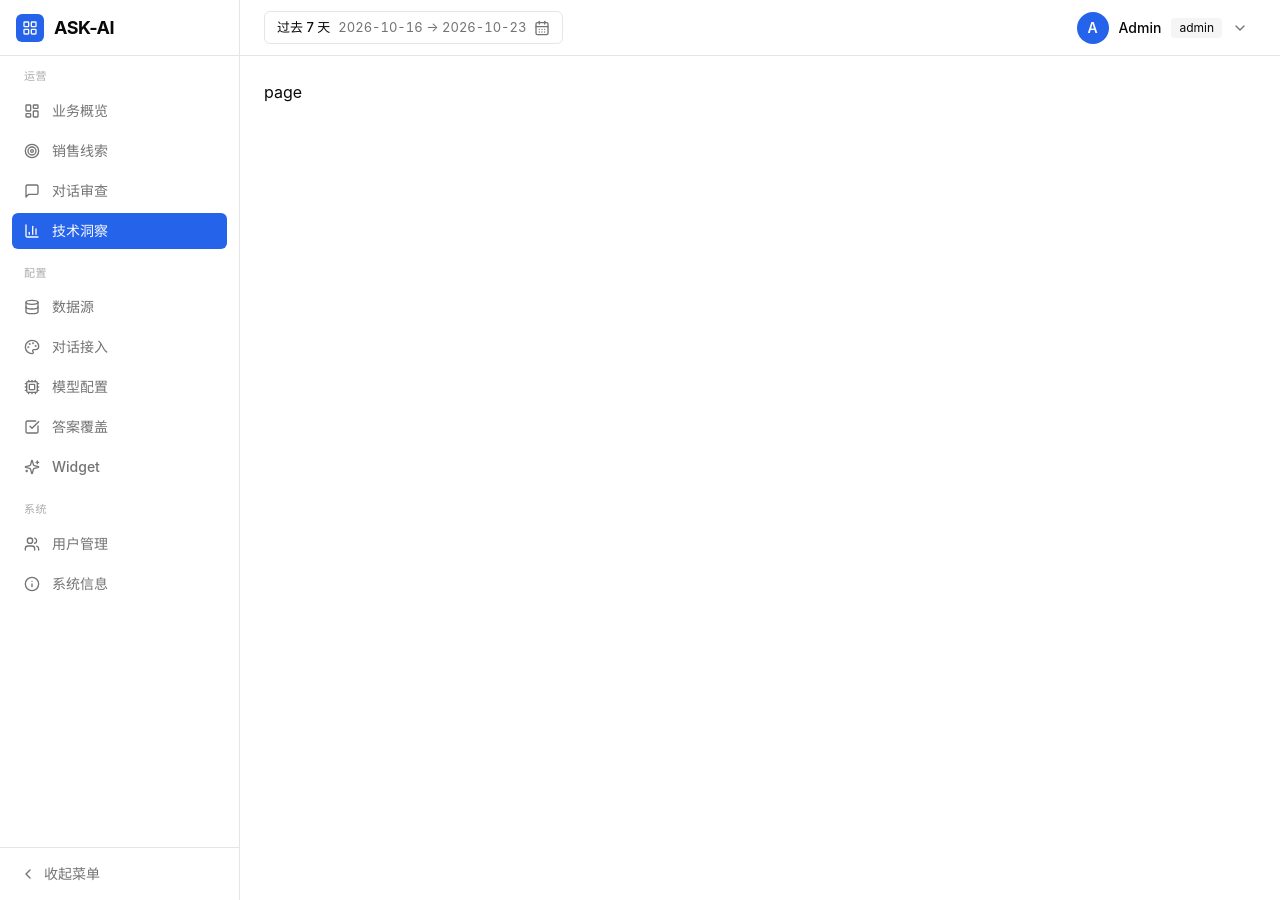
Test: SH-09/U-2:顶栏分析窗控件(技术洞察域呈现,非全站) › 顶栏控件含 今日/过去 7 天/过去 30 天/全部时间 快选项与显式起止日历输入
Click the button "过去 7 天 2026-10-16 → 2026-10-23" at x=414, y=28, box [264,11,563,44]
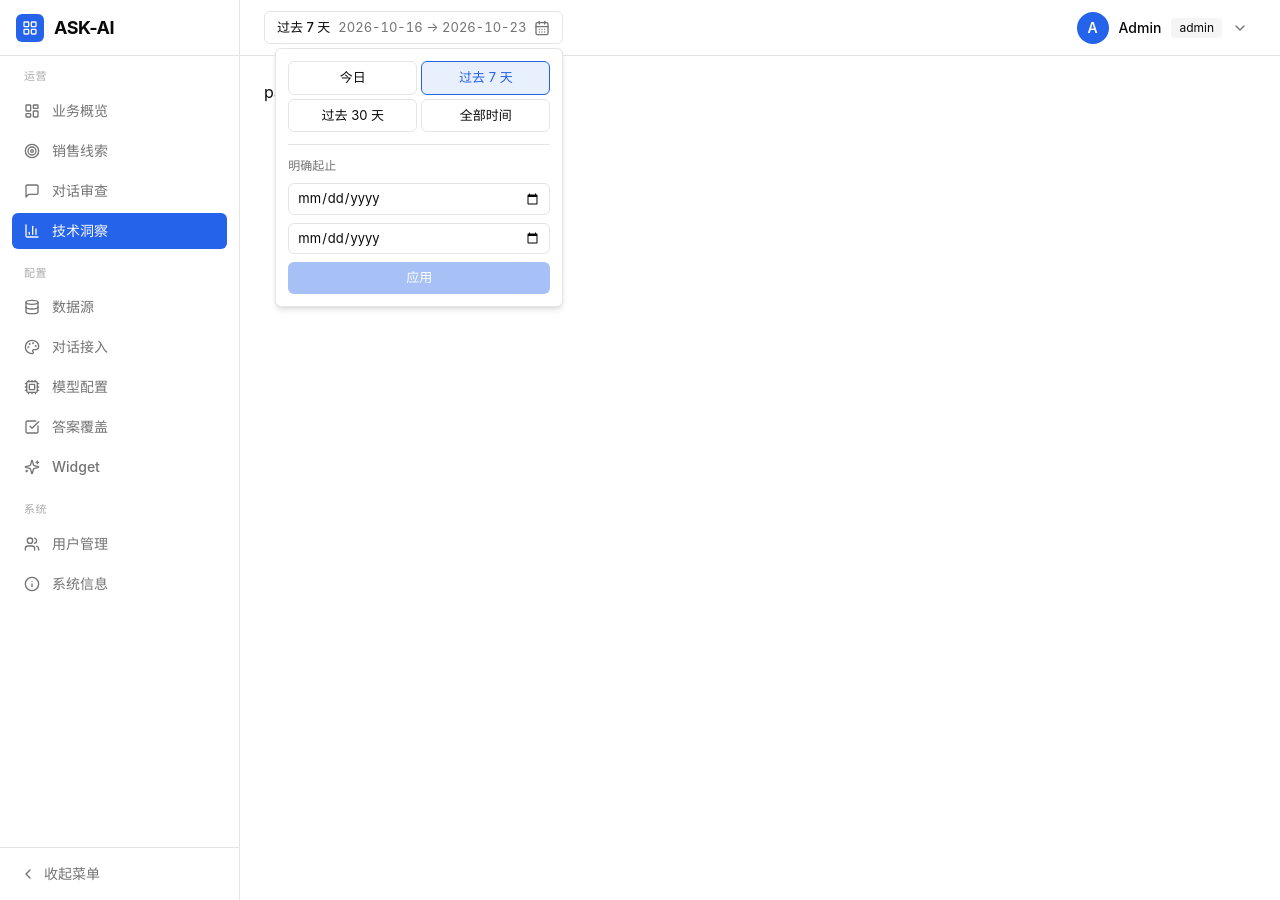
Expected: the button "今日" is shown, [288,61,417,95]
Expected: the button "过去 30 天" is shown, [288,99,417,132]
Expected: the button "全部时间" is shown, [421,99,550,132]
